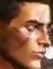kevin: (2, 0, 52, 68)
